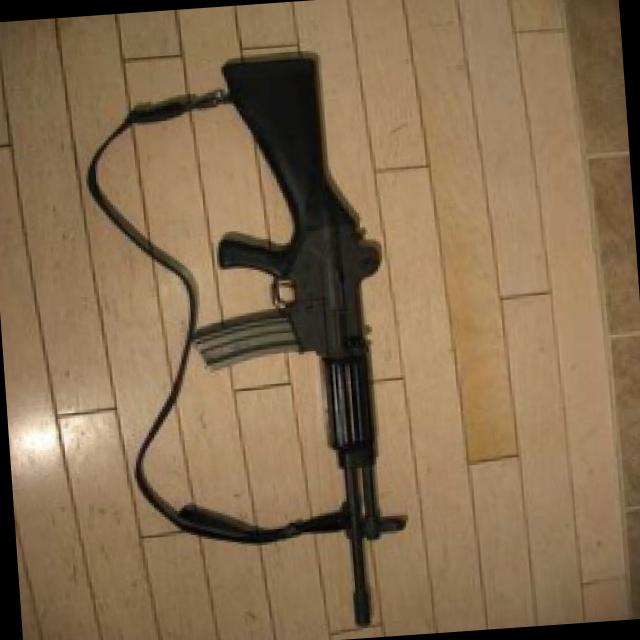long weapon: (167, 32, 438, 639)
